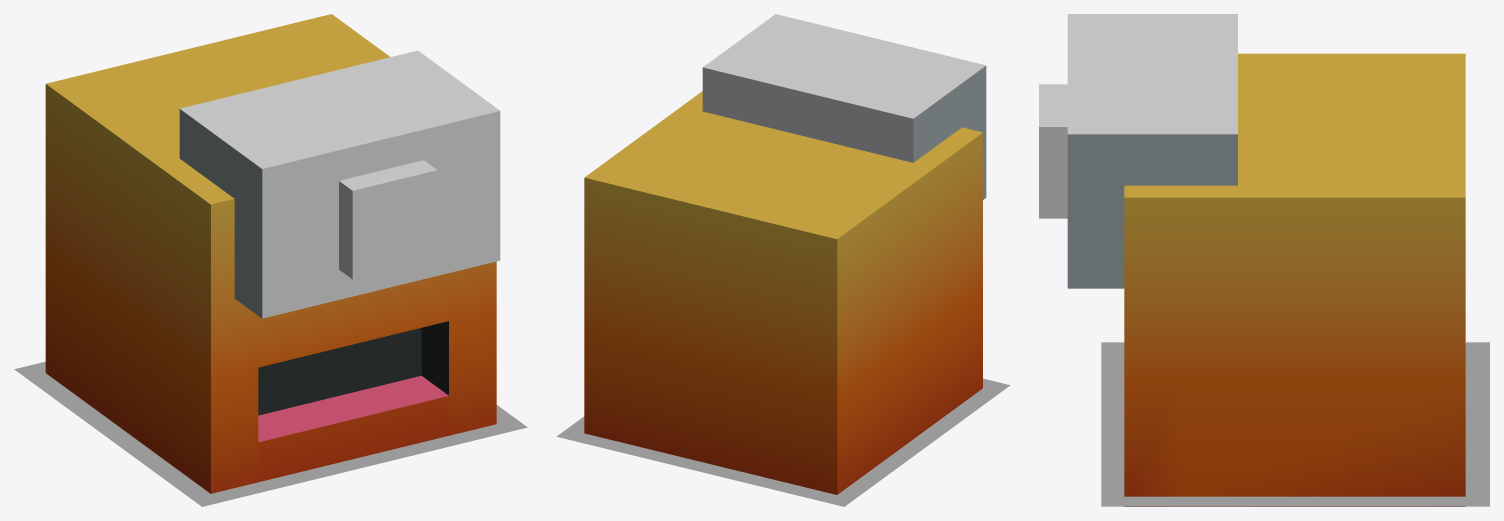
Rendered from EN_TinyBit_Flame.fbx.
3 renders of one model, left to right at view 1: azimuth 30°, elevation 25°; view 2: azimuth 150°, elevation 25°; view 3: azimuth 270°, elevation 25°, orthographic. The views are drawn at different scales.
Visible parts, largest first — view 1: Body, Eye, Mouth, Pupil, Shadow; view 2: Body, Eye, Shadow; view 3: Body, Eye, Shadow, Pupil.
Boxes of the visible parts, x1,y1,x2,y2 form: Body: (45, 14, 496, 493); Eye: (179, 50, 500, 318); Mouth: (258, 376, 448, 482); Pupil: (339, 160, 437, 279); Shadow: (14, 361, 527, 506); Body: (584, 91, 982, 494); Eye: (702, 14, 986, 199); Shadow: (556, 378, 1010, 506); Body: (1124, 53, 1465, 506); Eye: (1067, 14, 1237, 288); Shadow: (1101, 342, 1489, 506); Pupil: (1039, 84, 1067, 218).
Bounding box in the file's own units: 34.17 × 35 × 39.64.
